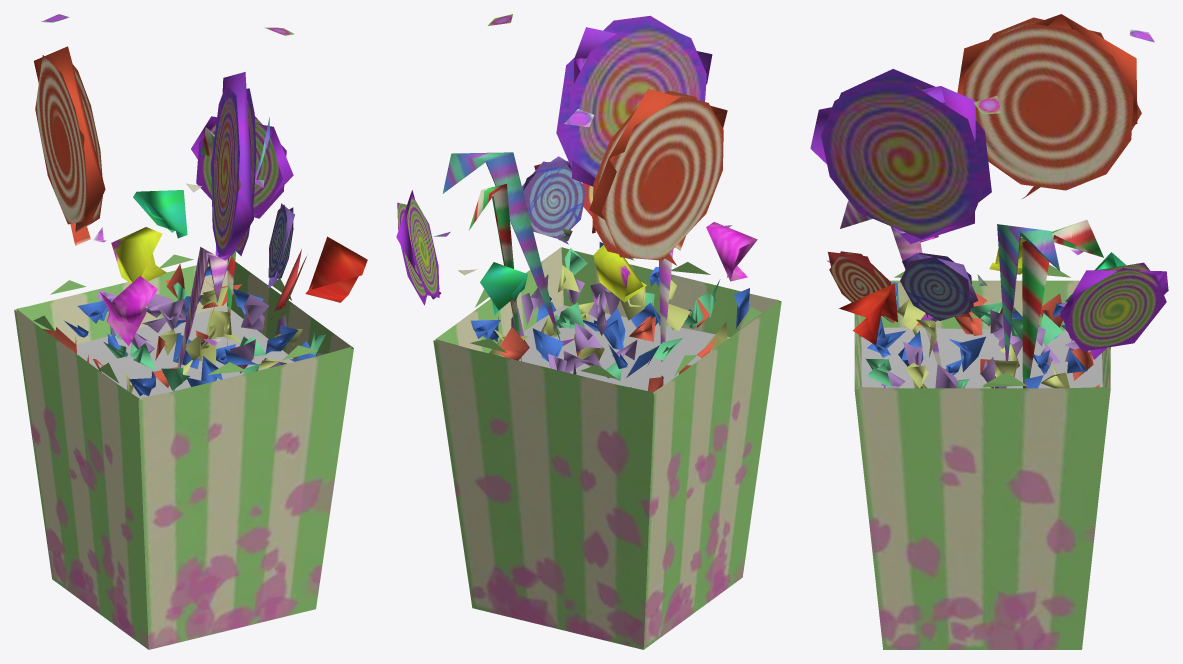
File: decorSmall-candy-58.glb
3 renders of one model, left to right at view 1: azimuth 30°, elevation 25°; view 2: azimuth 150°, elevation 25°; view 3: azimuth 270°, elevation 25°, orthographic. The views are drawn at different scales.
Visible parts, largest first — view 1: piece; view 2: piece; view 3: piece.
Boxes of the visible parts, left/top/right/bottom form: piece: left=14, top=14, right=367, bottom=649; piece: left=396, top=14, right=781, bottom=649; piece: left=810, top=14, right=1168, bottom=649.
Bounding box in the file's own units: 0.0766 × 0.1545 × 0.0902.
1 material, 1 textured.
